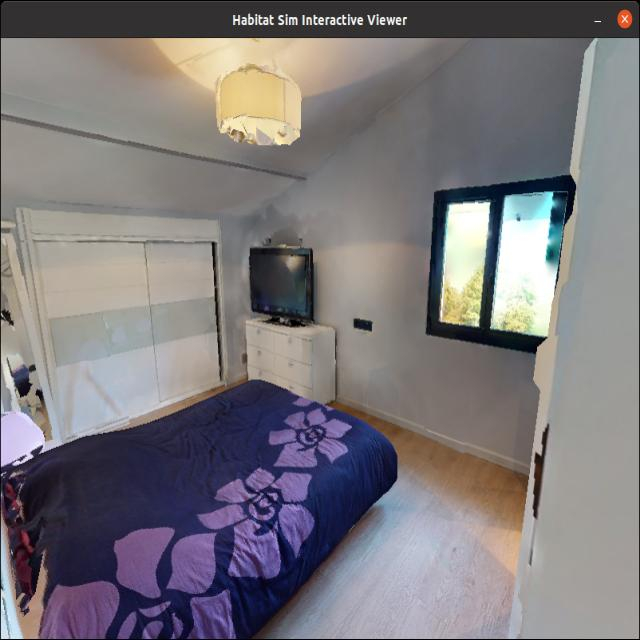bed: (0, 347, 420, 639)
